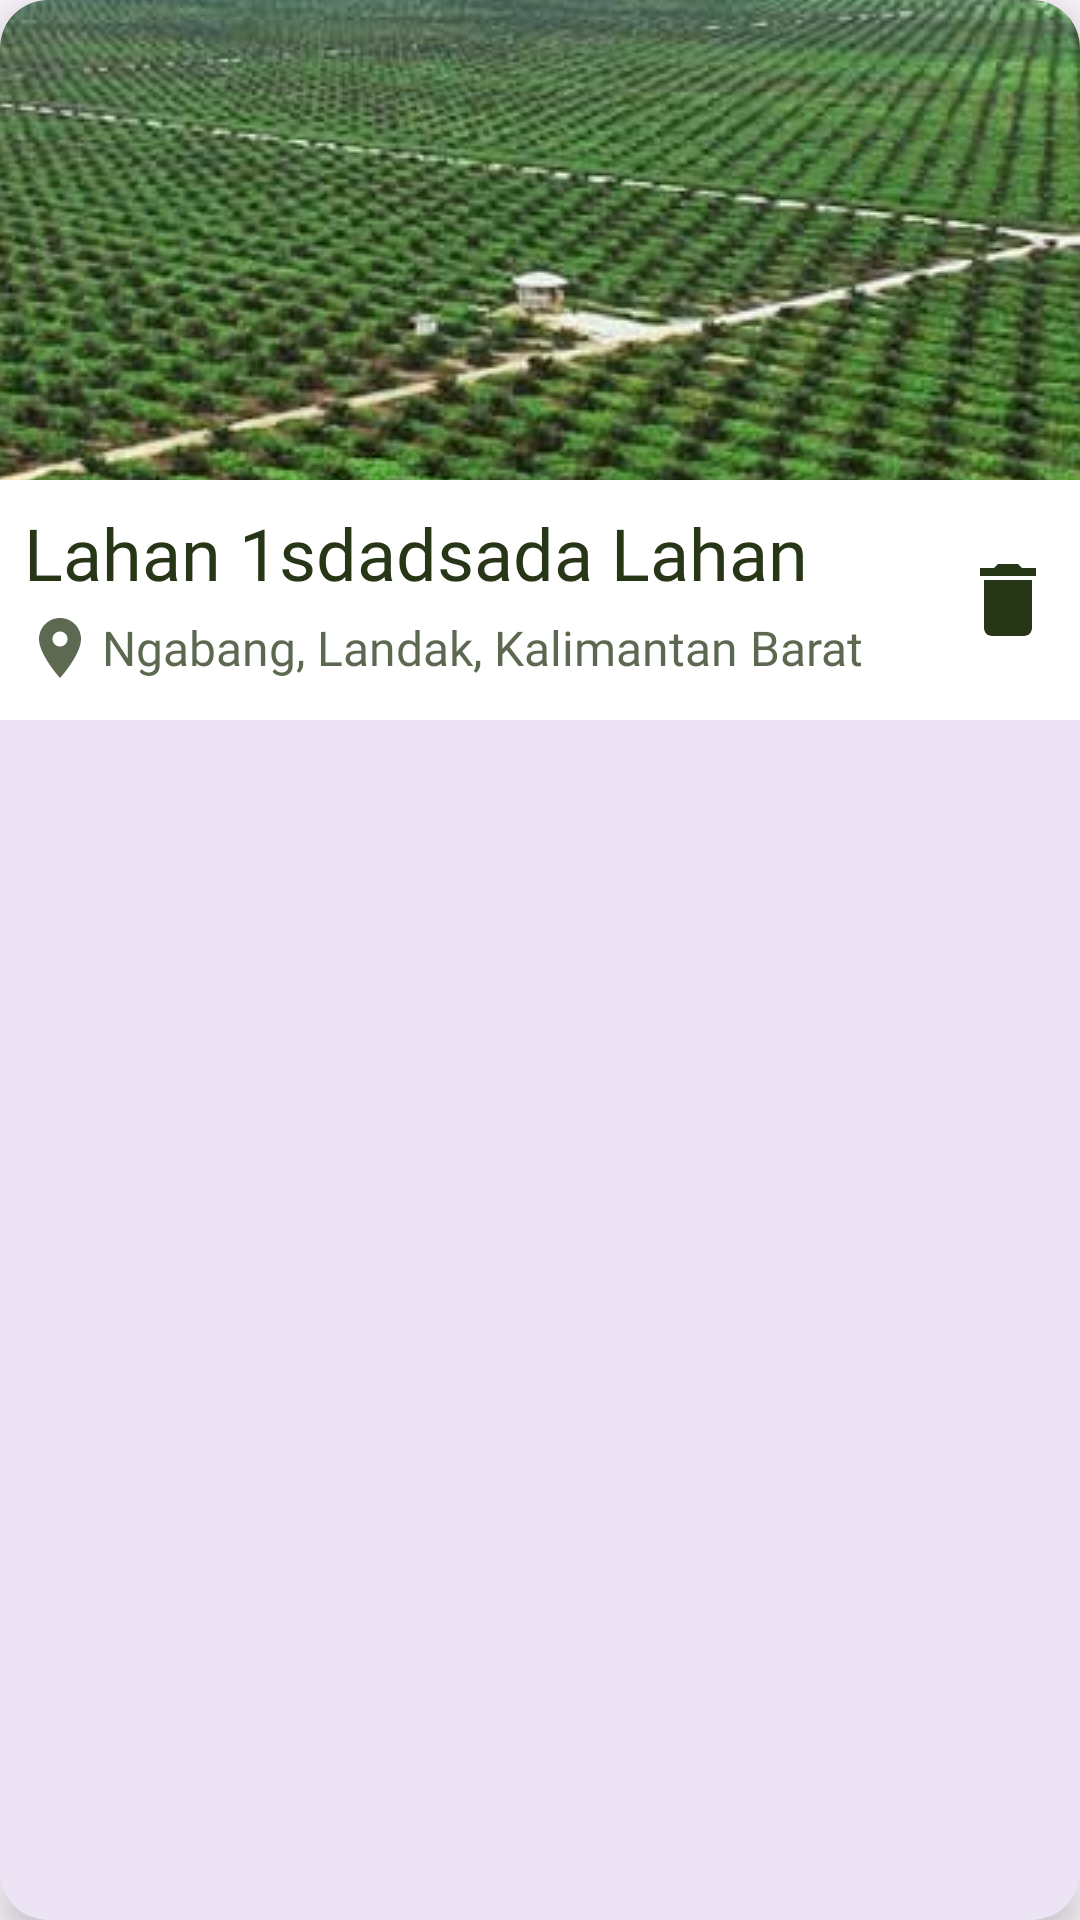

Icon click points for this 1080w x 1920h phone screenshot, format (x=x, y=y):
delete text: (x=1008, y=600)
